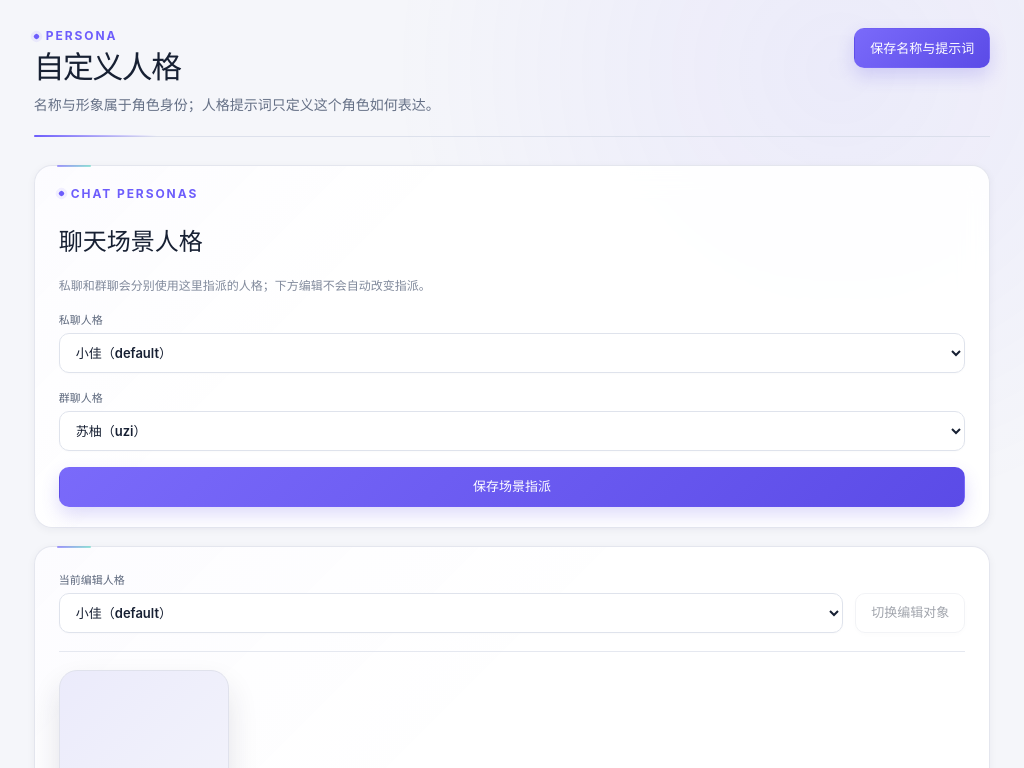
it: PersonaView › 切换人格后刷新编辑内容和表情图库
Select "苏柚（uzi）" in the dropdown labelled "当前编辑人格" at (451, 613), box [59,593,843,633]
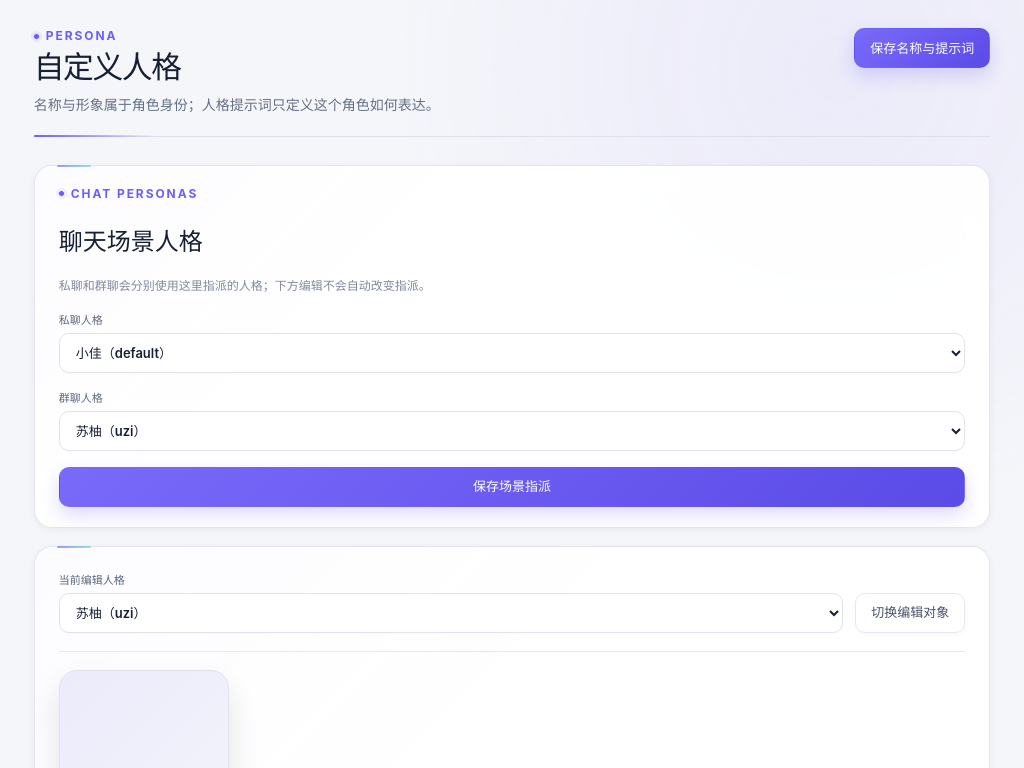
Click the button "切换编辑对象" at (910, 613), box [855,593,965,633]
(page scrolled)
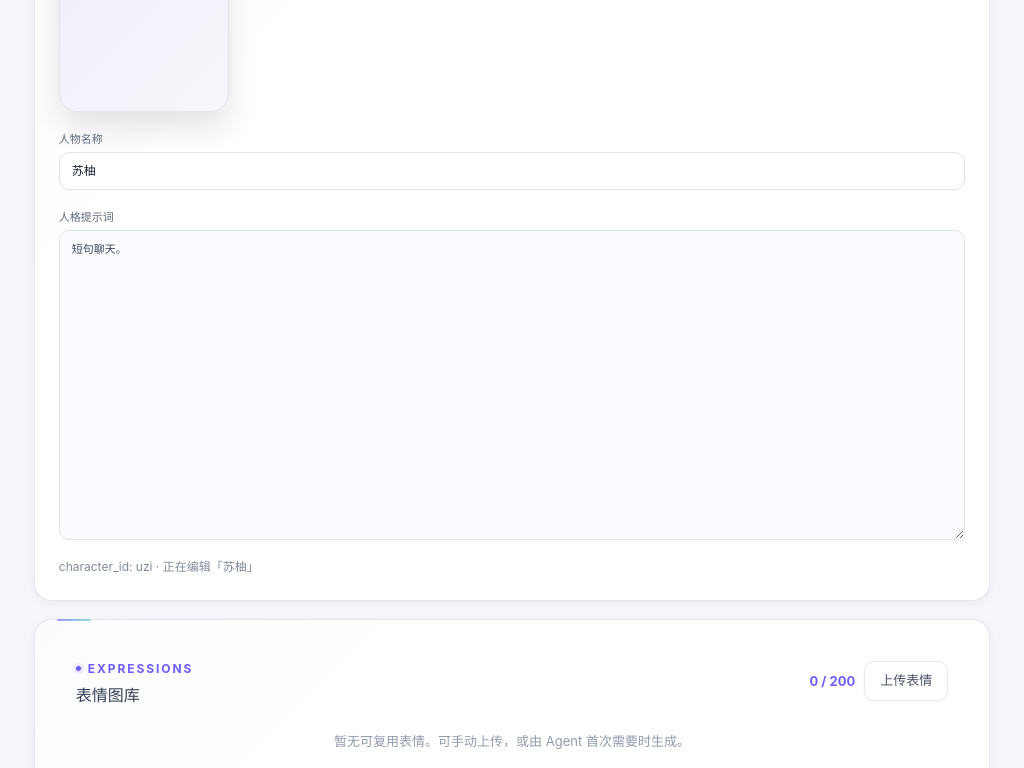
Check: the text box labelled "人格提示词" holds "短句聊天。", box [59,230,965,540]
Check: the text "character_id: uzi" is shown, box [59,559,259,574]
Check: the text "正在编辑「苏柚」" is shown, box [59,559,259,574]
